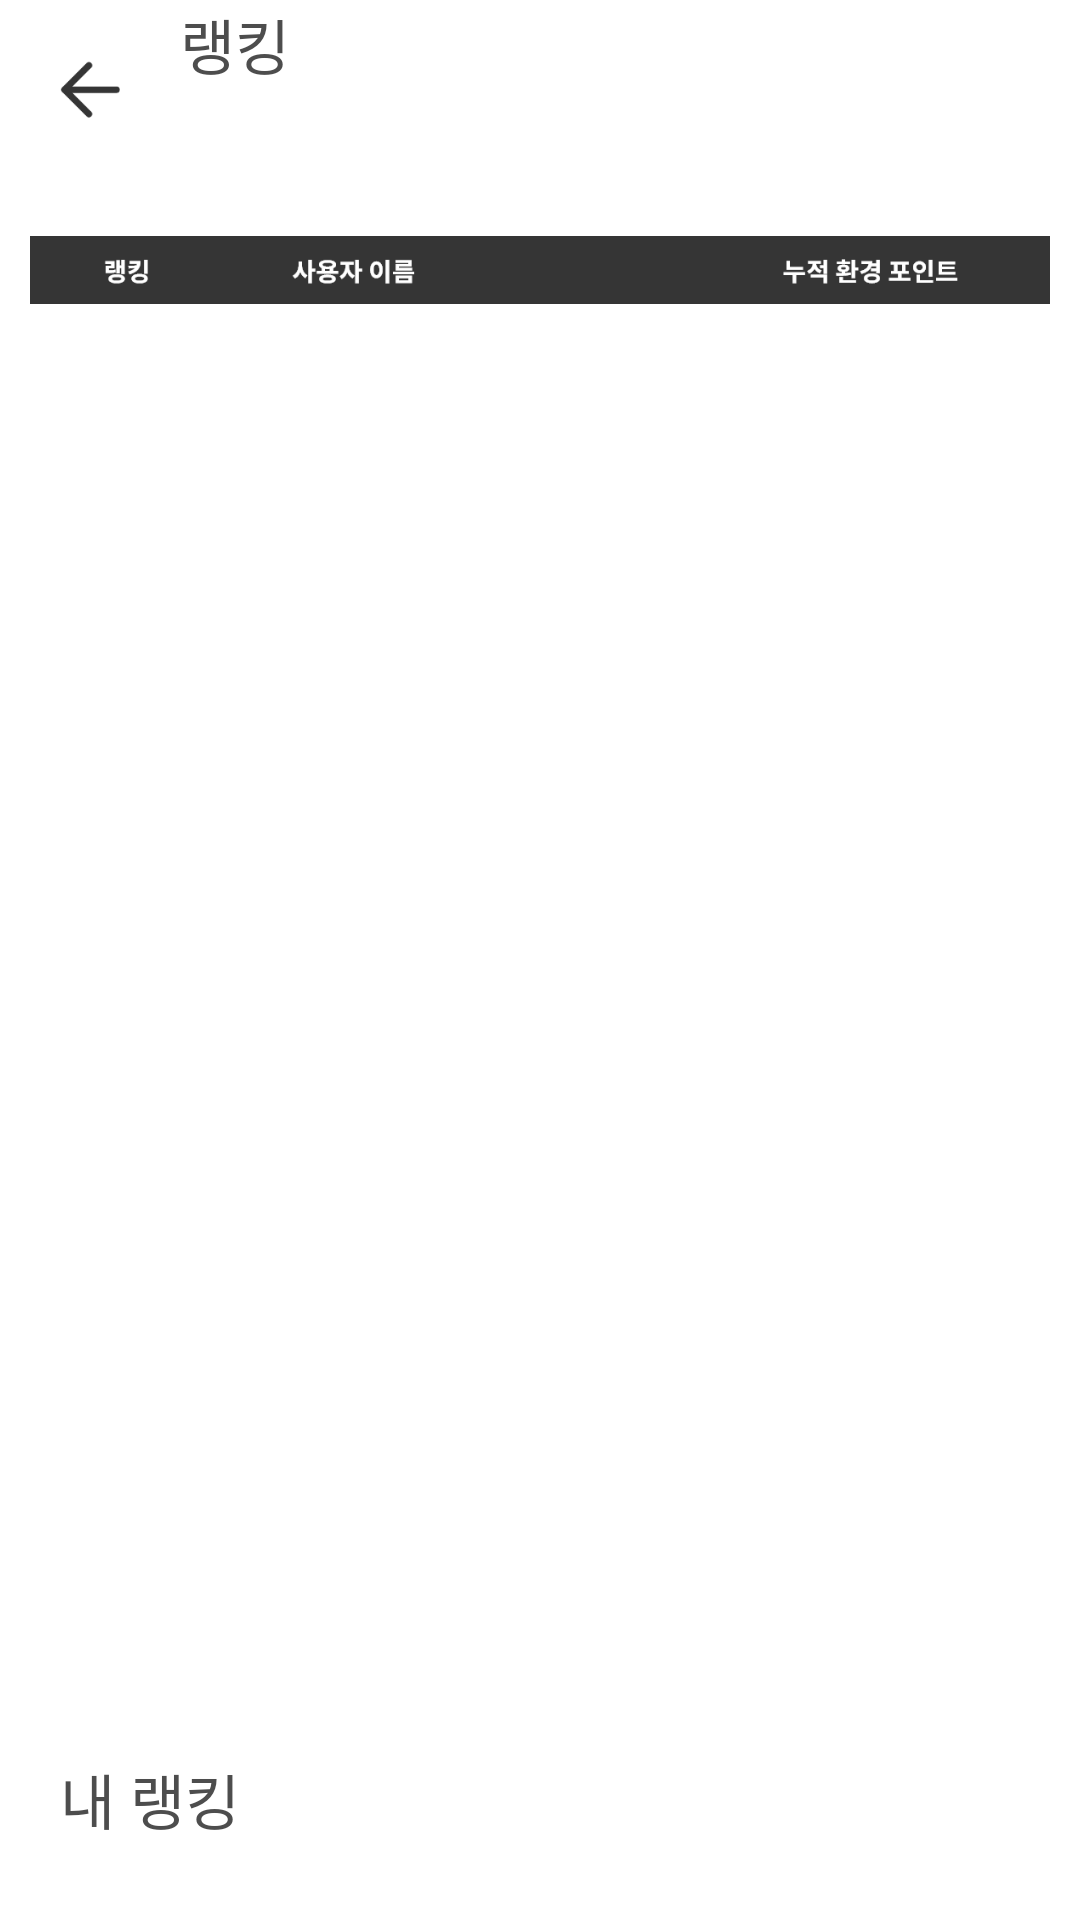

Icons on this 1080 × 1920 Android screen, each with its box as (x1, y1, x2, y2):
backbutton: (61, 61, 120, 118)
